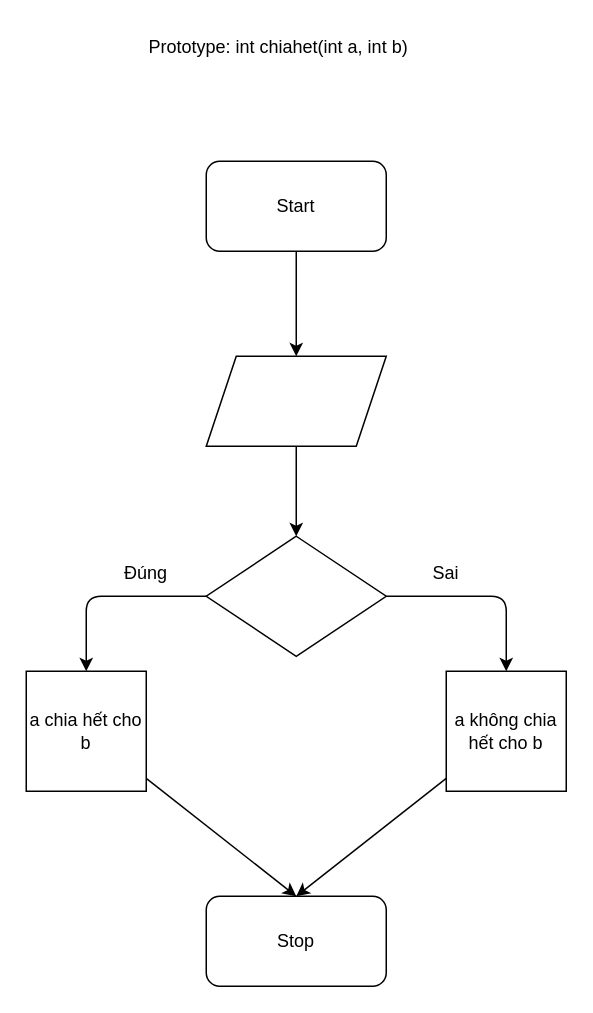
Image size: 593x1013. Some labels were removed from this diagram. Each missing label, with the centre of its shape:
a chia hết cho b?: the point at 295,595
Input a,b: the point at 295,400
